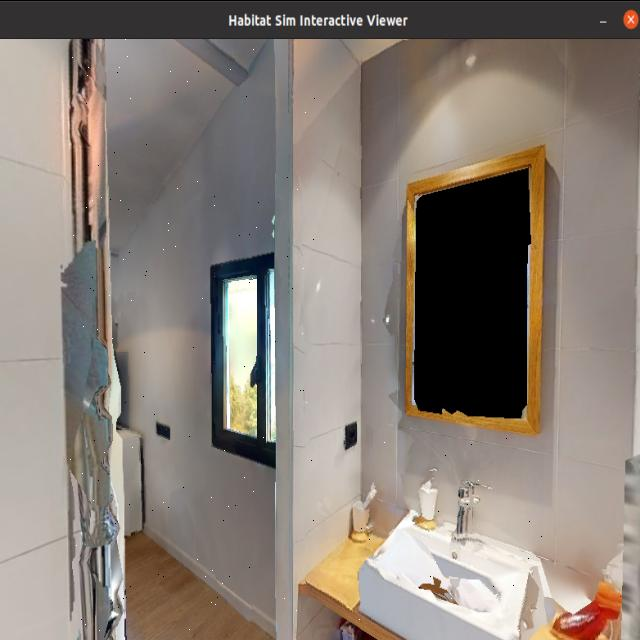door-frame: (66, 39, 315, 640)
sink: (351, 434, 551, 640)
